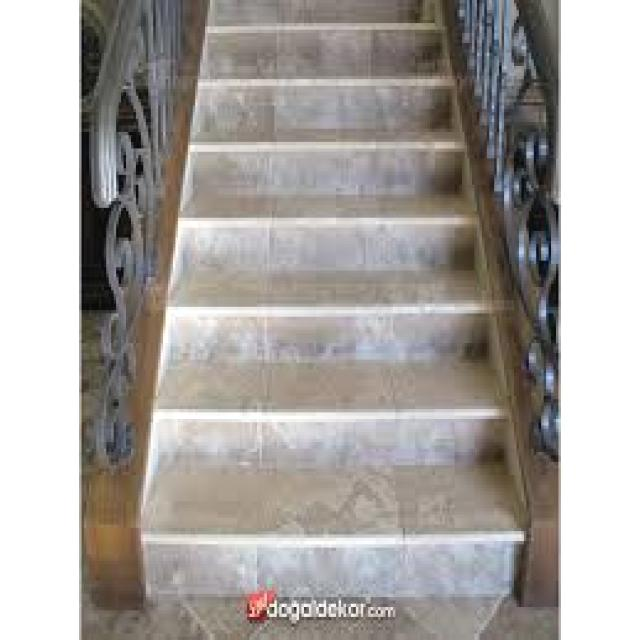stair: (157, 13, 552, 603)
